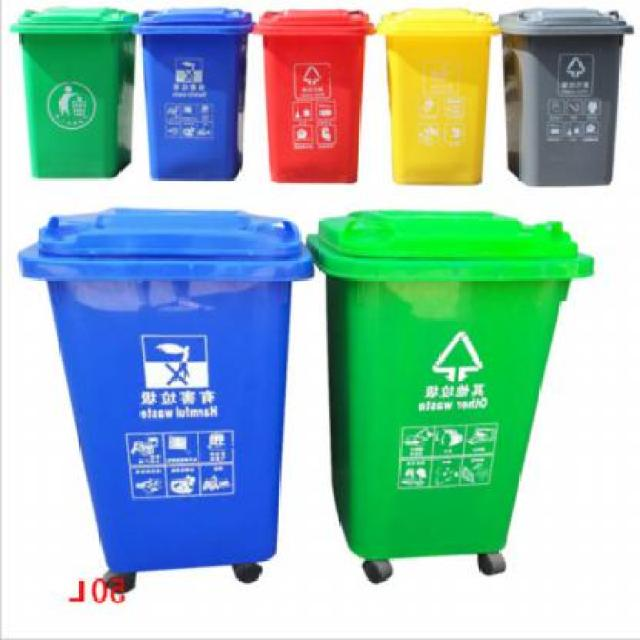garbage container: (11, 201, 322, 604), (312, 198, 593, 602), (7, 2, 142, 196), (500, 4, 638, 188), (135, 2, 259, 190), (376, 5, 501, 188), (251, 6, 377, 183)
